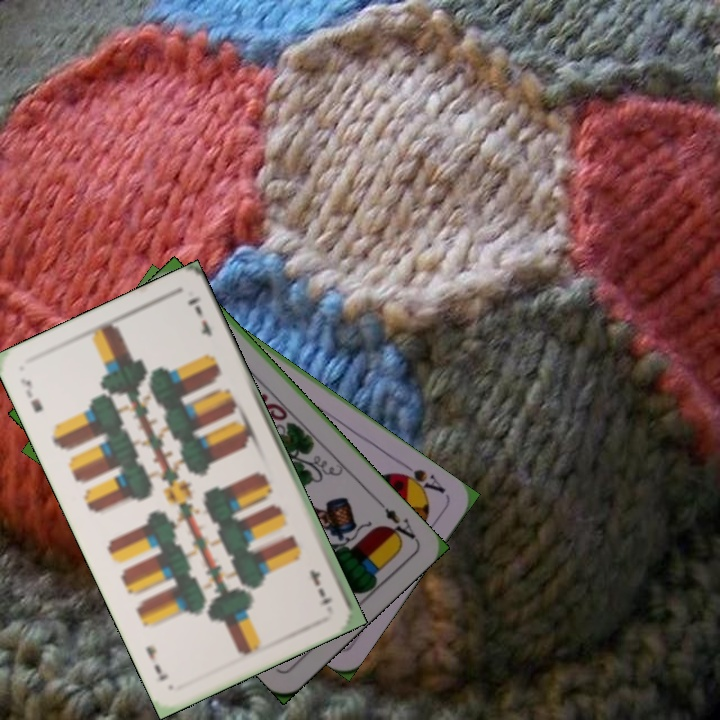E7: (16, 373, 46, 416), (305, 566, 336, 607)
EA: (374, 497, 420, 547)
SA: (391, 458, 448, 499)
